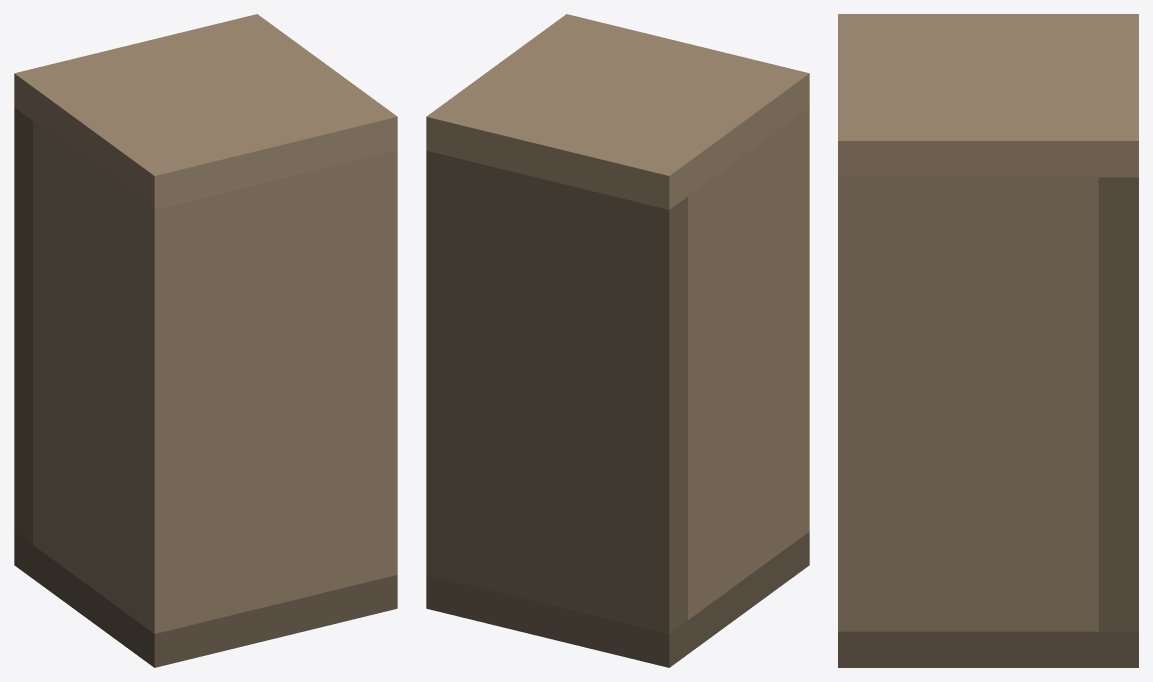
The model's file is estanteria_empotrada_desgastada_01.glb.
3 views of the same model, side by side, from view 1: azimuth 30°, elevation 25°; view 2: azimuth 150°, elevation 25°; view 3: azimuth 270°, elevation 25° (orthographic). The views are drawn at different scales.
Visible parts, largest first — view 1: estanteria_empotrada_desgastada; view 2: estanteria_empotrada_desgastada; view 3: estanteria_empotrada_desgastada.
Part boxes in pixels (x1,y1,x2,y2): estanteria_empotrada_desgastada: (14,14,397,667); estanteria_empotrada_desgastada: (426,14,809,667); estanteria_empotrada_desgastada: (838,14,1138,667).
Bounding box in the file's own units: 1 × 1.93 × 1.
